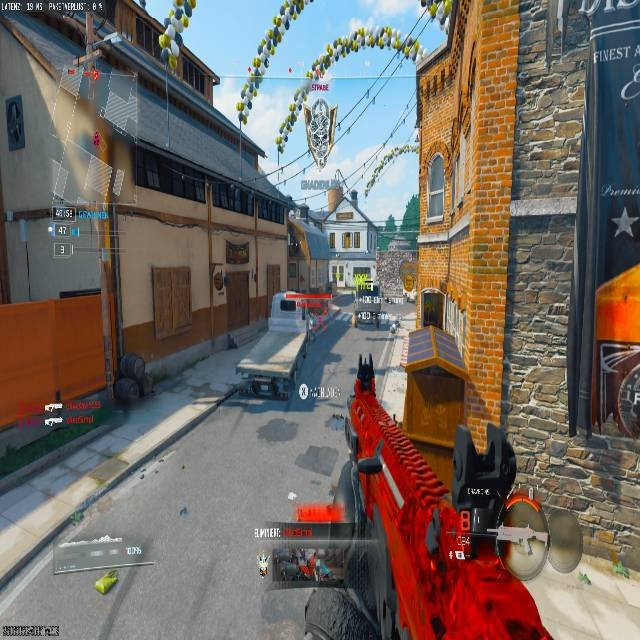player: (389, 321, 399, 334)
